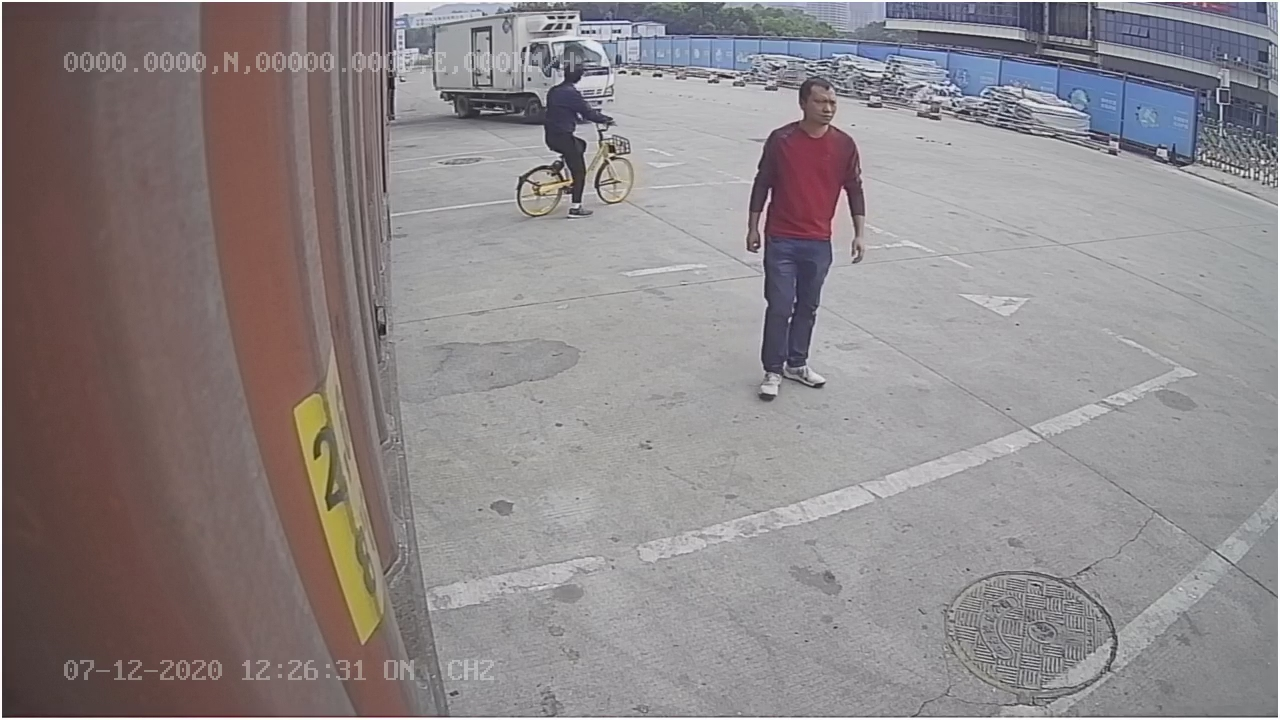person: (740, 73, 872, 406)
